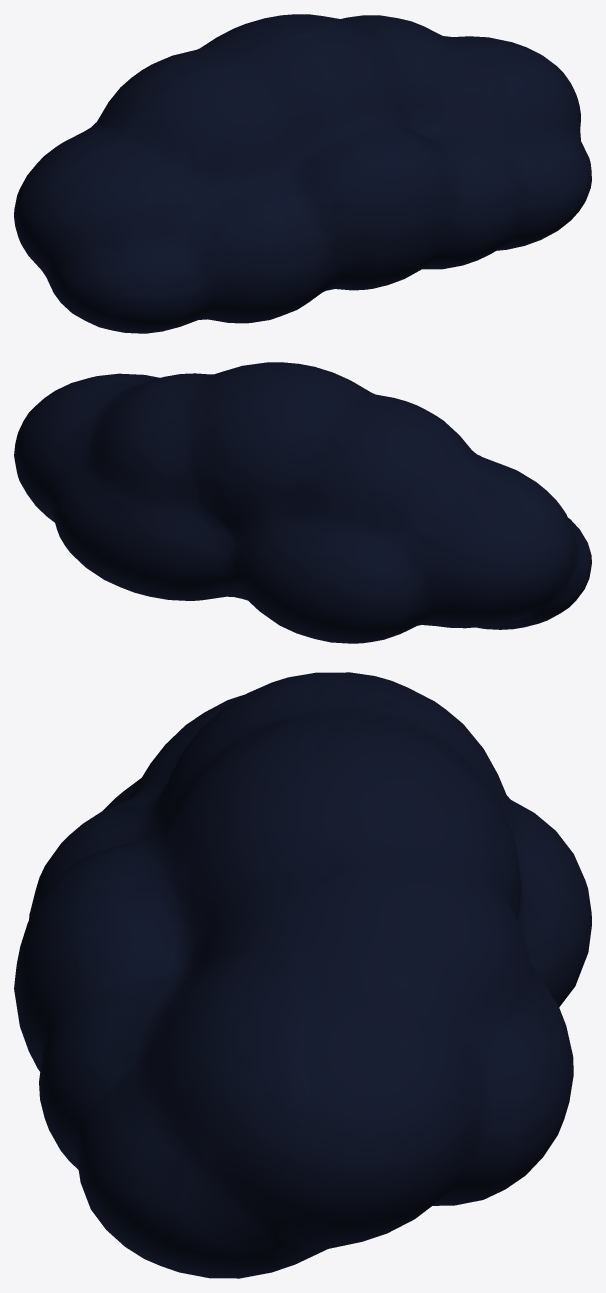
The model's file is SM_thunderstorm_cloud_LOD2.fbx.
3 renders of one model, top to bottom at view 1: azimuth 30°, elevation 25°; view 2: azimuth 150°, elevation 25°; view 3: azimuth 270°, elevation 25°, orthographic. The views are drawn at different scales.
Parts seen in each view (by area): view 1: SM_thunderstorm_cloud_LOD2; view 2: SM_thunderstorm_cloud_LOD2; view 3: SM_thunderstorm_cloud_LOD2.
Boxes of the visible parts, box(x1,y1,x2,y2) form: SM_thunderstorm_cloud_LOD2: box(14, 14, 591, 333); SM_thunderstorm_cloud_LOD2: box(14, 362, 591, 643); SM_thunderstorm_cloud_LOD2: box(14, 672, 591, 1278).
Bounding box in the file's own units: 2.21 × 1.22 × 0.8848.
